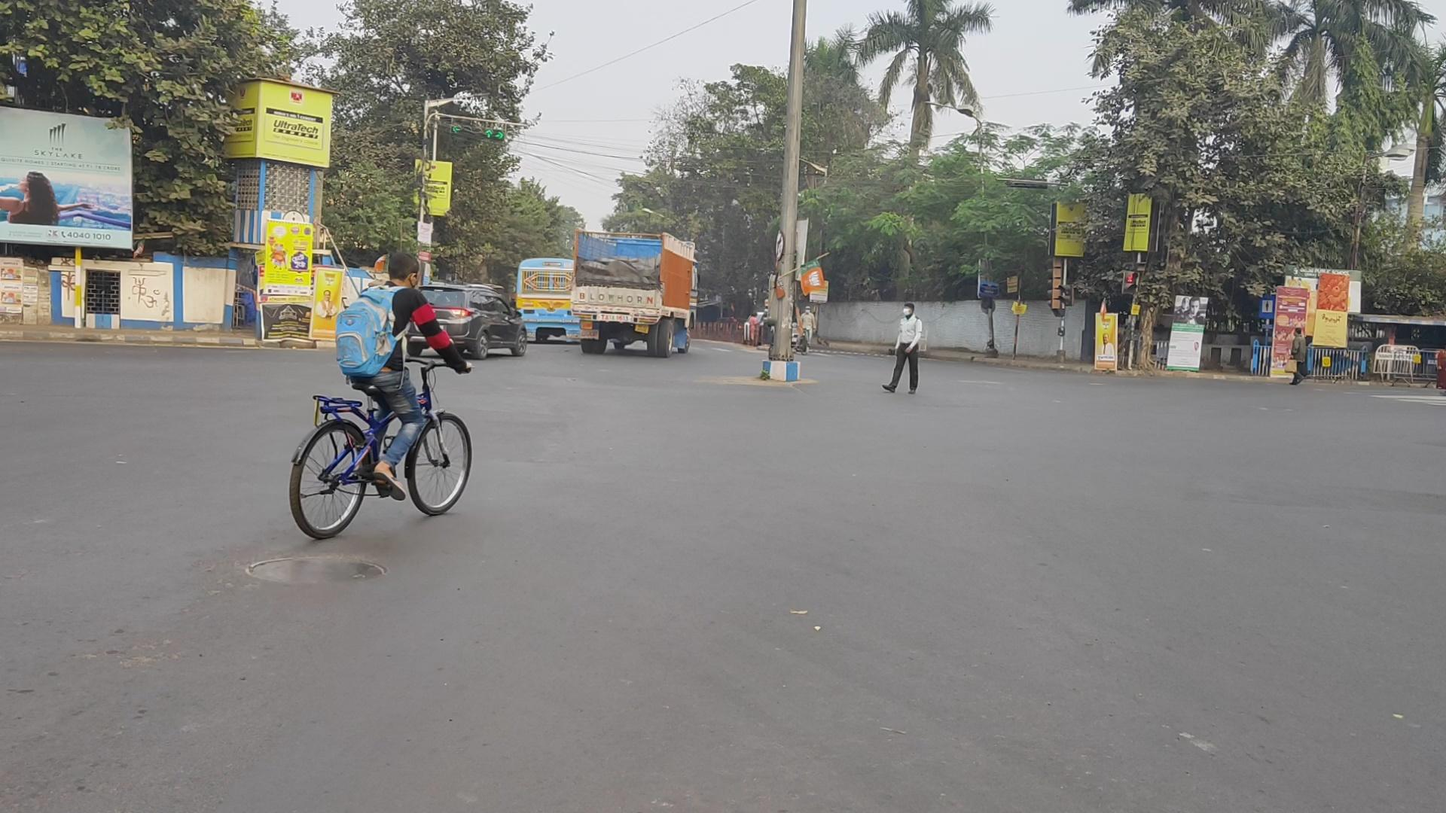Bus: (516, 257, 591, 344)
bike: (289, 252, 473, 540)
car: (402, 282, 528, 360)
truck: (572, 227, 697, 358)
